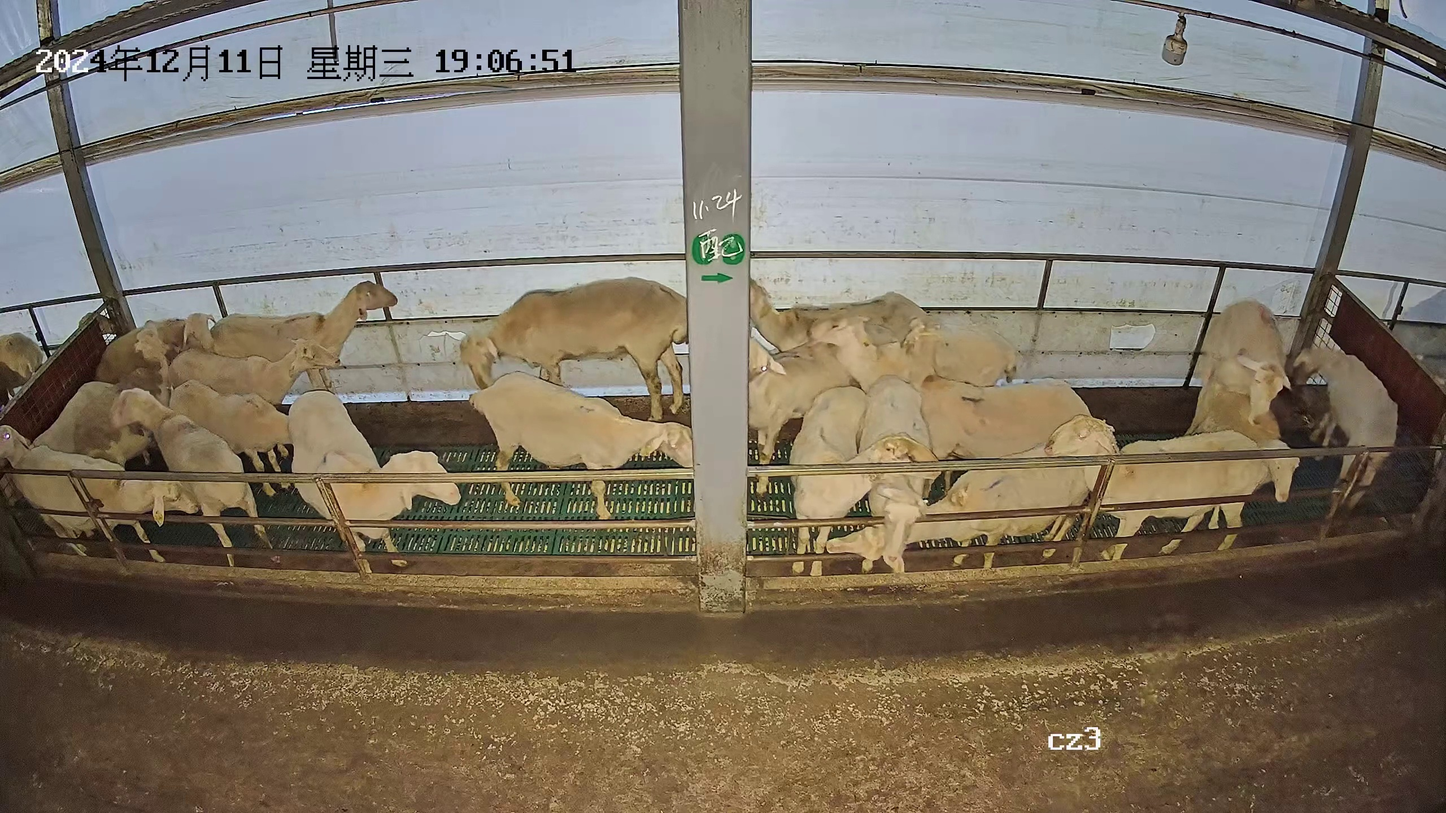Smounting: (1181, 297, 1306, 508)
mounted: (1186, 379, 1303, 505)
